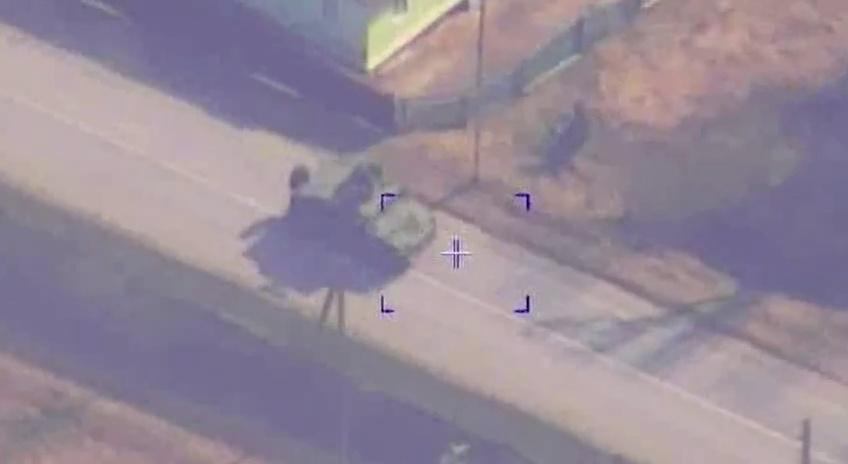armored_car: (289, 152, 439, 275)
